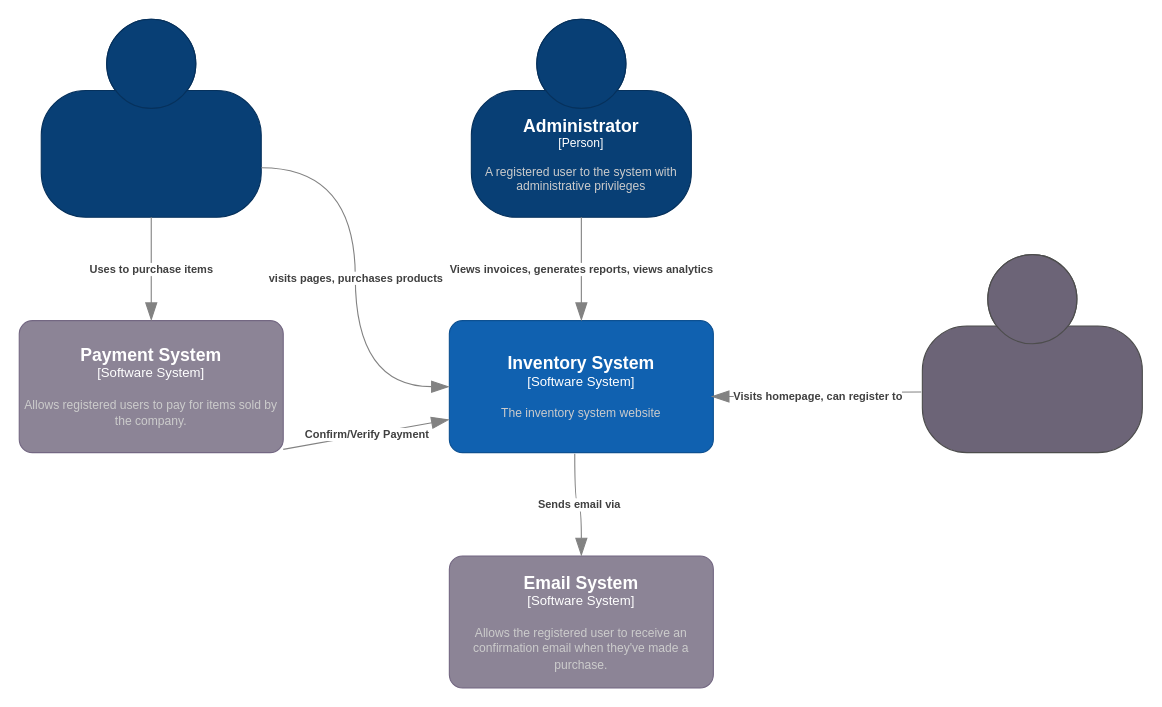
Some shapes in this 1162 by 707 pixel diagram are drawn without their labels. Each missing label, with the centre of its shape:
"Registered User [Person] A user who is registered to the system" goes at point 150,117.
"Unregistered Guest [Person] A guest who browses the system homepage" goes at point 1031,353.
